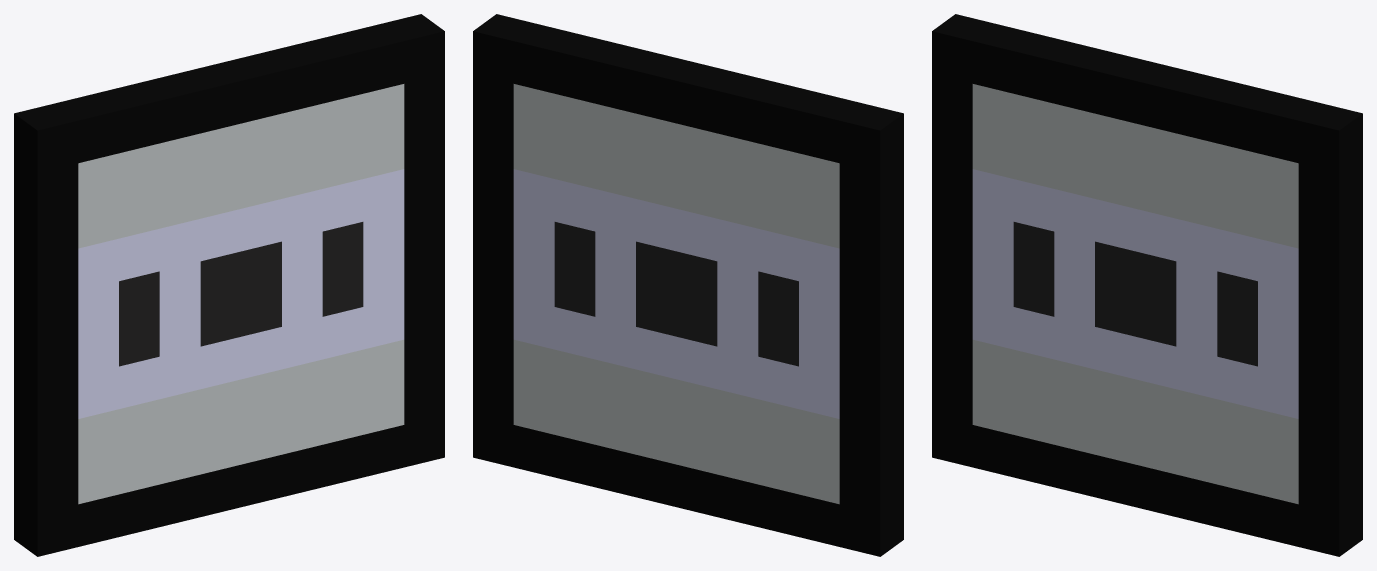
File: White Paintball Explosive Item.glb
3 views of the same model, side by side, from view 1: azimuth 30°, elevation 25°; view 2: azimuth 150°, elevation 25°; view 3: azimuth 330°, elevation 25° (orthographic).
Visible parts, largest first — view 1: generated; view 2: generated; view 3: generated.
Boxes of the visible parts, x1,y1,x2,y2 form: generated: (14, 14, 444, 556); generated: (473, 14, 903, 556); generated: (932, 14, 1362, 556).
Size of the model in its own units: 10 by 10 by 1.
Materials: 1 (1 with a texture image).
